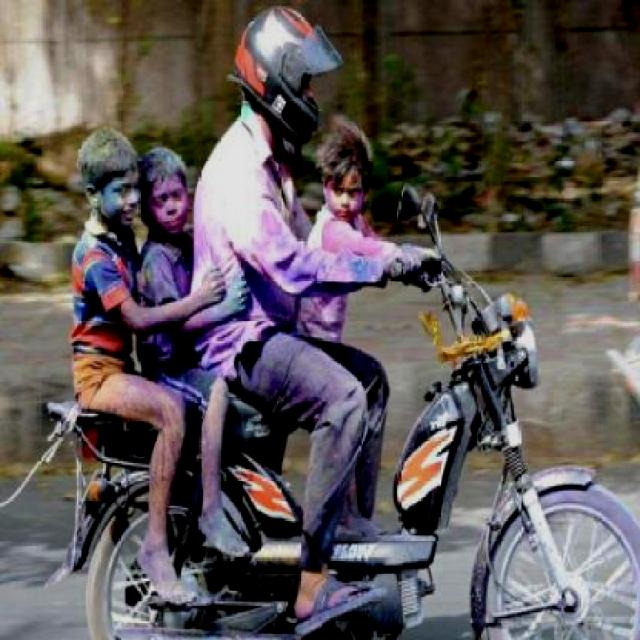With Helmet: (232, 0, 345, 154)
Without Helmet: (313, 120, 379, 225), (74, 126, 140, 228), (137, 143, 189, 232)
